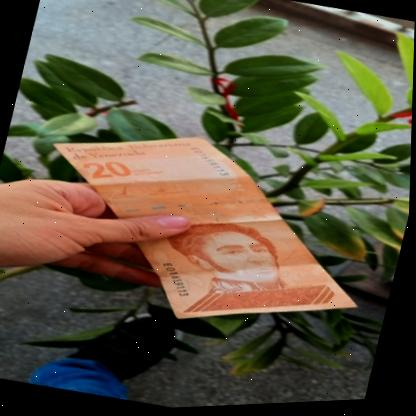twenty-front-vef: (16, 100, 392, 362)
